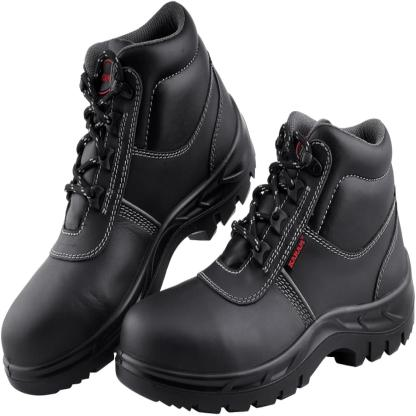bota: (0, 0, 249, 399), (112, 100, 414, 413)
